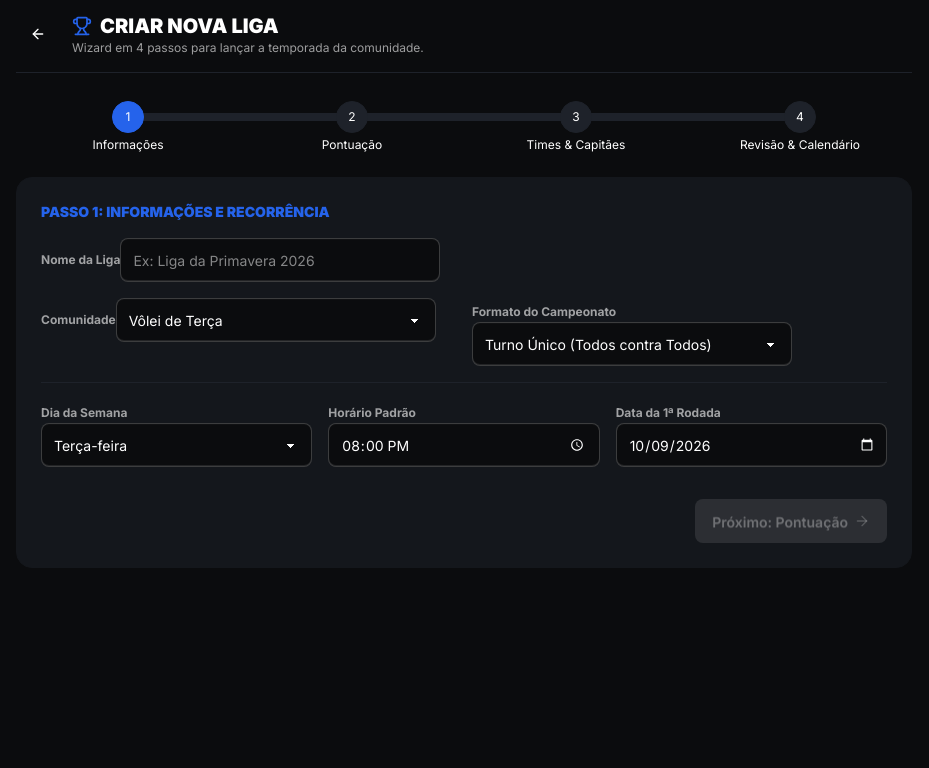
Test: ChampionshipWizardView › percorre os quatro passos até a revisão
Type "Liga da Primavera" into the field with placeholder "Ex: Liga da Primavera 2026" at (280, 260), box [120,238,440,282]
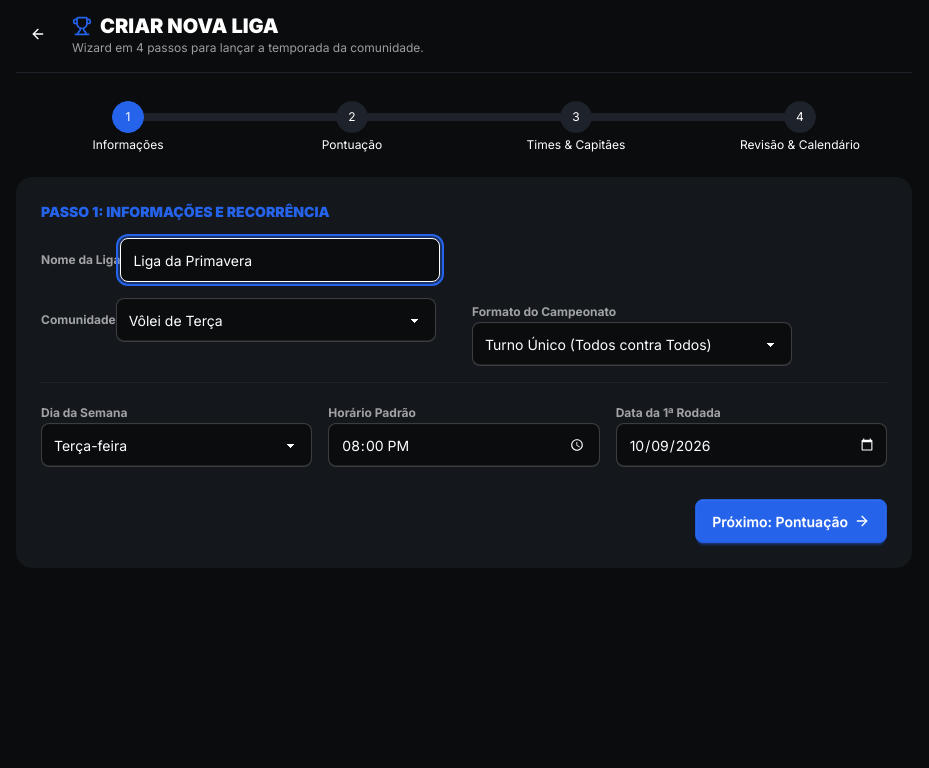
Click the button "Próximo: Pontuação" at (791, 521), box [695,499,887,543]
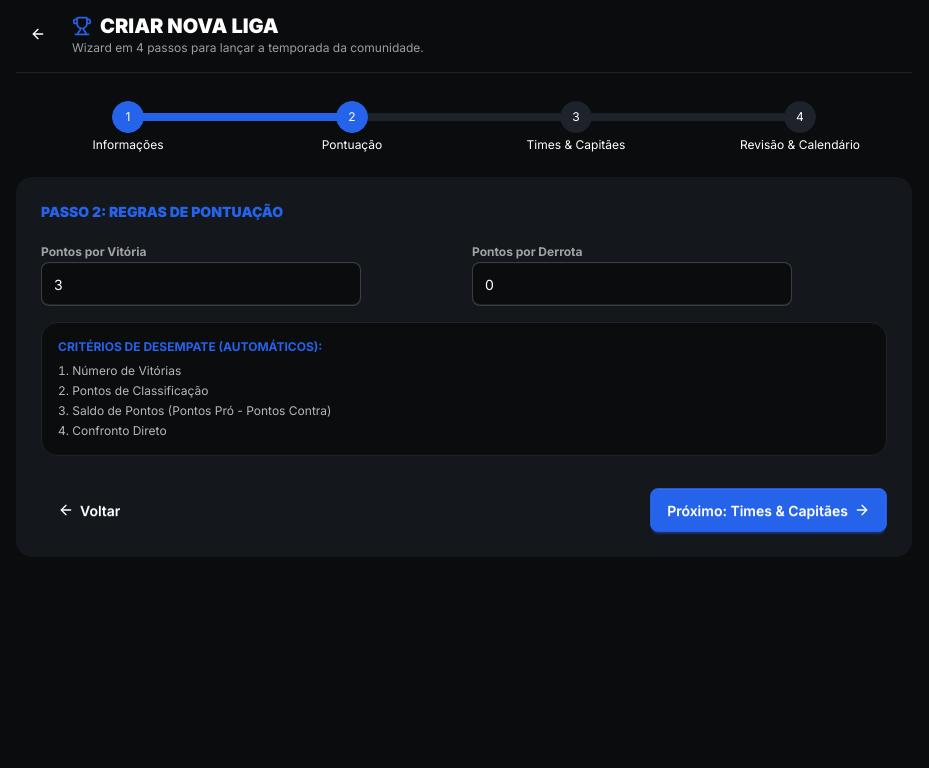
Click the button "Próximo: Times & Capitães" at (769, 510), box [650,488,887,532]
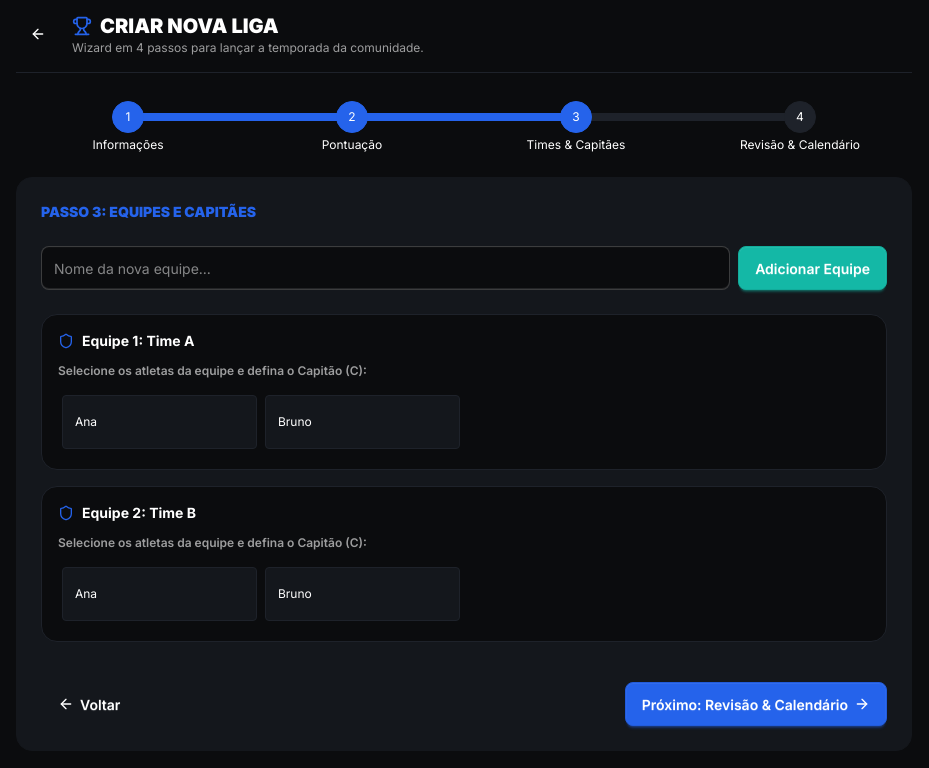
Click the button "Próximo: Revisão & Calendário" at (756, 704), box [625,682,887,726]
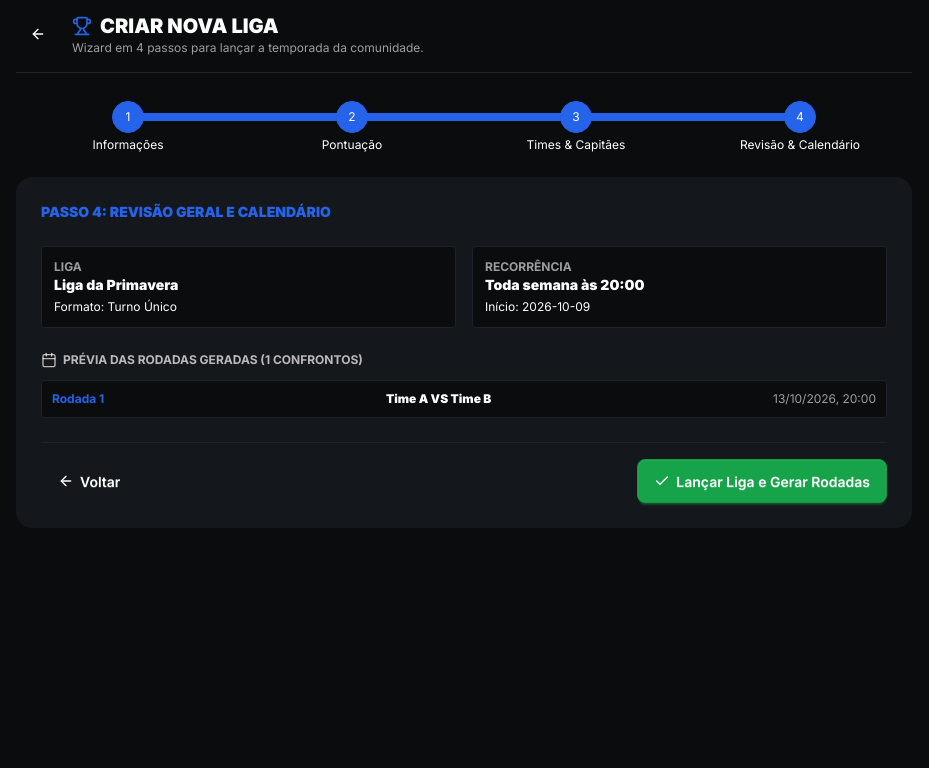
Expected: the heading "Passo 4: Revisão Geral e Calendário" is shown, [41,203,331,220]
Expected: the heading "Prévia das Rodadas Geradas (1 confrontos)" is shown, [41,352,363,368]
